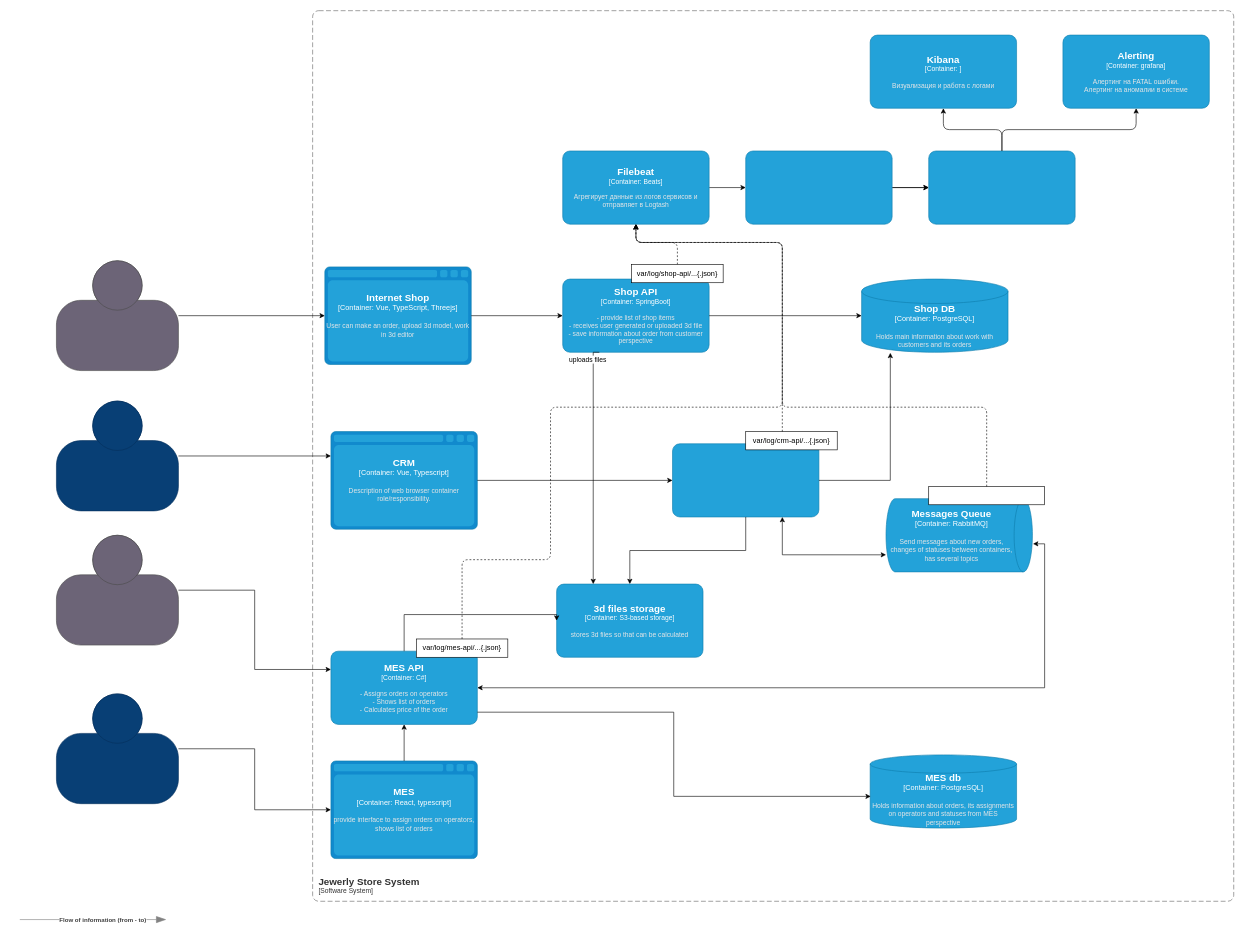
The diagram is 1244 pixels wide and 940 high, and some of its shapes have lost their labels. The shapes that lost their labels are listed below. From the top down, each one's centre as x and y in pixels, then its label:
At point (818, 187): "Logstash [Container: ] Преобразует данные и отправляет в elastic search".
At point (1001, 187): "Elastic Search [Container: ] Сохраняет и индексирует данные".
At point (117, 315): "Customer [Person] Description of external person.".
At point (117, 455): "Seller [Person] Operates with order, confirms manufacturing for the user".
At point (745, 480): "CRM API [Container: SpringBoot] Description of container role/responsibility.".
At point (986, 495): "var/log/message-queuei/...{.json}".
At point (117, 590): "API user [Person] Description of external person.".
At point (117, 748): "Operator [Person] Takes order in work, manufactures jewerly".
